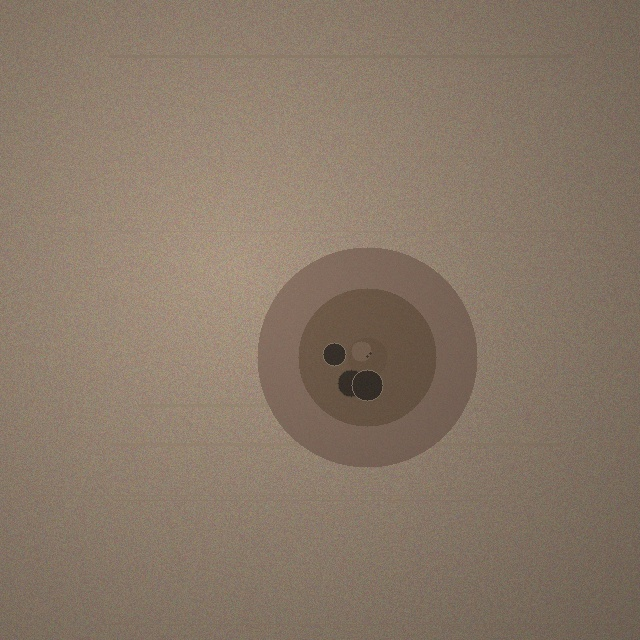shrinkage: (257, 247, 477, 467)
